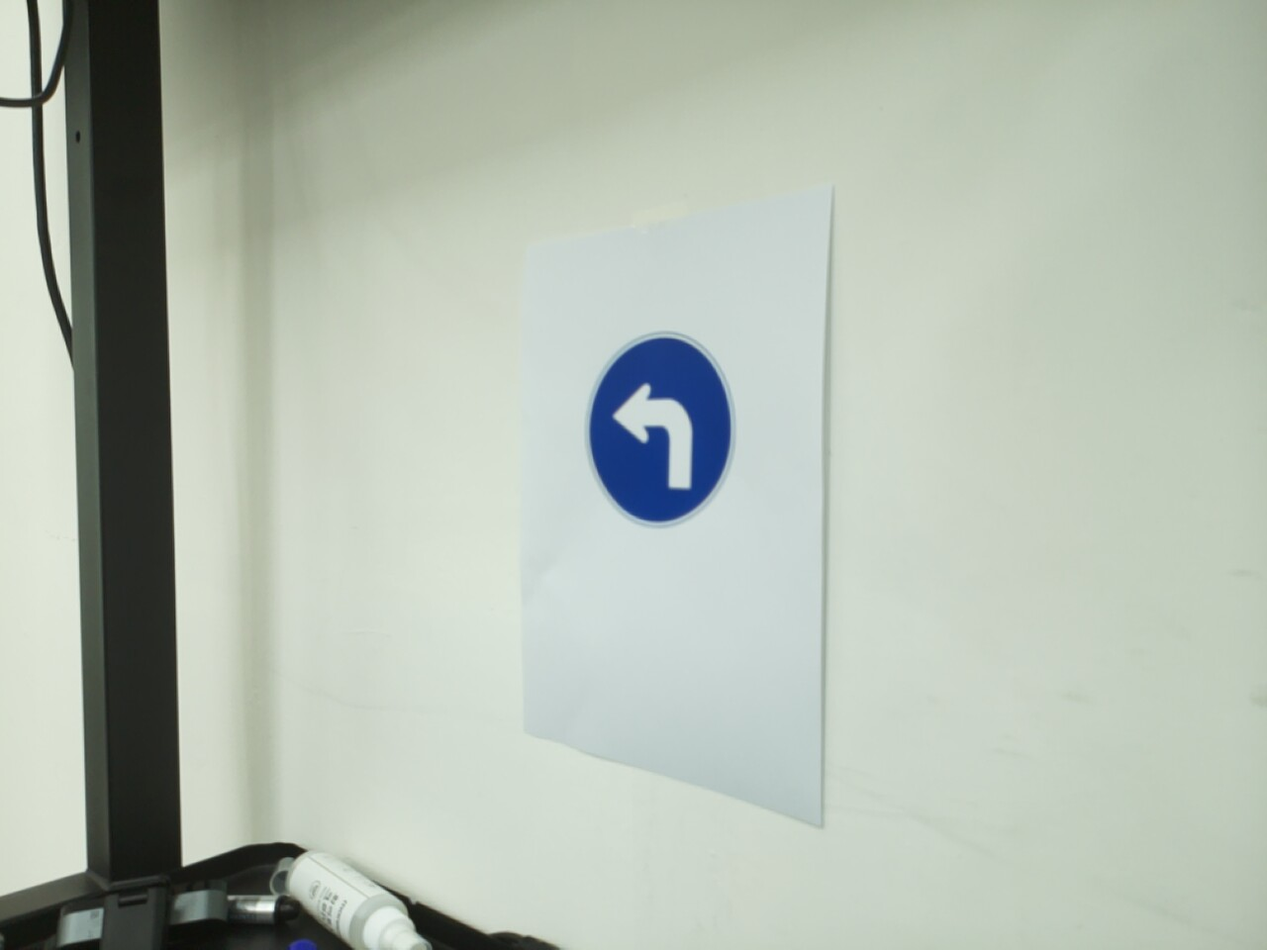left_turn: (582, 331, 738, 529)
